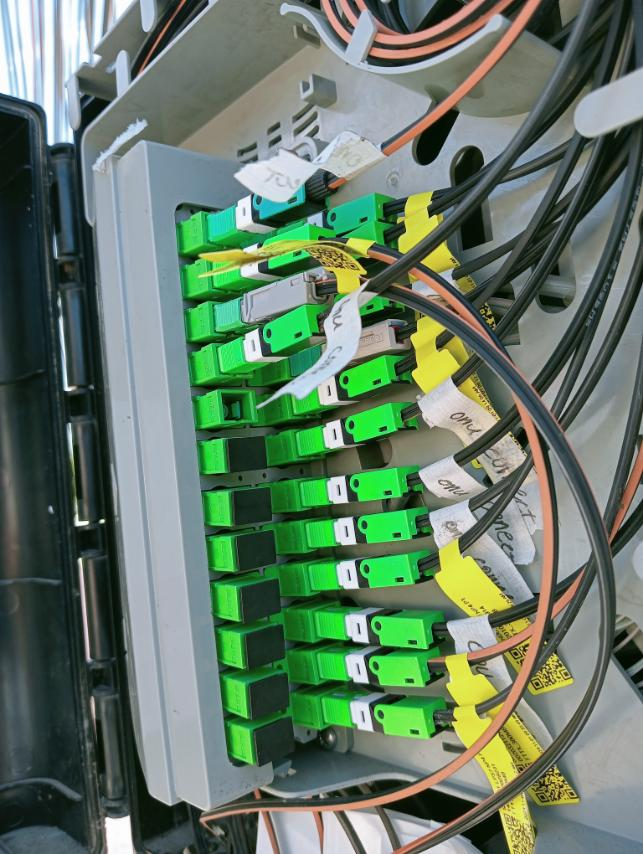no dust cap: (220, 392, 257, 424)
occupied: (203, 160, 343, 246), (214, 300, 339, 380), (266, 222, 400, 292), (283, 316, 422, 382), (289, 356, 420, 421), (208, 225, 338, 290), (271, 188, 407, 249), (260, 276, 407, 329), (293, 398, 423, 456), (306, 507, 443, 555), (295, 460, 426, 510), (215, 273, 324, 333), (307, 548, 444, 594), (326, 692, 452, 738), (314, 607, 450, 649), (317, 647, 447, 683)
vacant: (246, 670, 291, 722), (253, 715, 296, 768), (244, 621, 287, 672), (234, 529, 279, 575), (240, 578, 282, 624), (230, 486, 272, 525), (225, 436, 267, 473)
